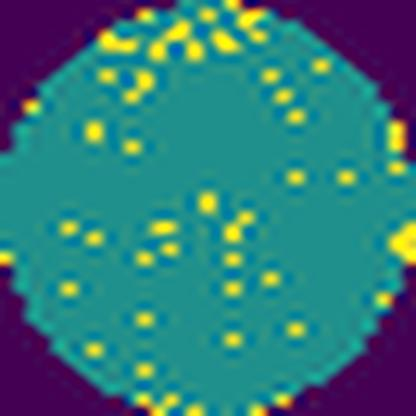Edge-Loc: (387, 218, 416, 270)
